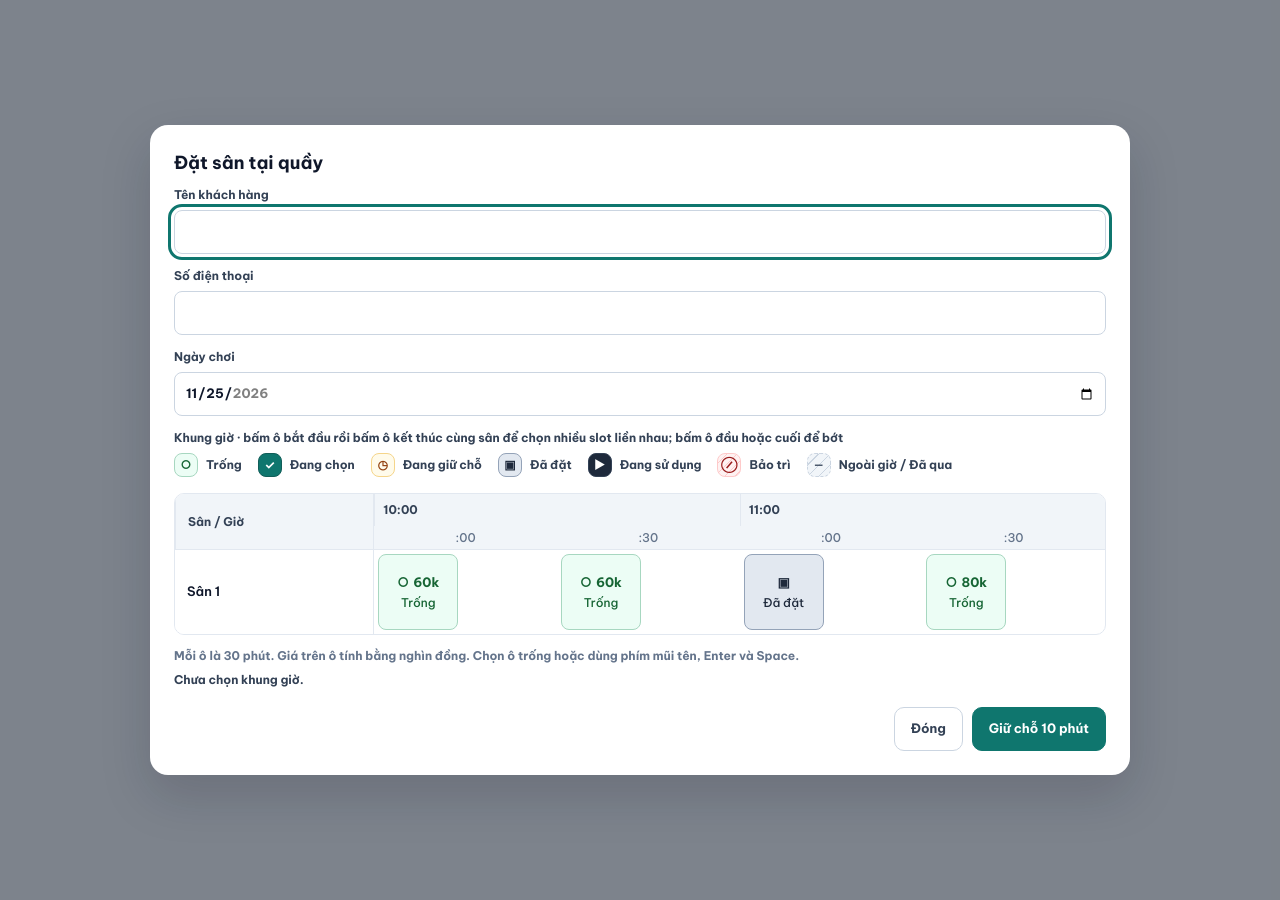
it: giữ chỗ › thiếu tên, số điện thoại và khung giờ thì báo từng chỗ, không gửi
Expected: the table named "Lịch sân theo khung 30 phút" is shown, top-left (175, 494), bottom-right (1105, 634)
Click the button "Giữ chỗ 10 phút": click(1039, 729) top-left (972, 707), bottom-right (1106, 751)
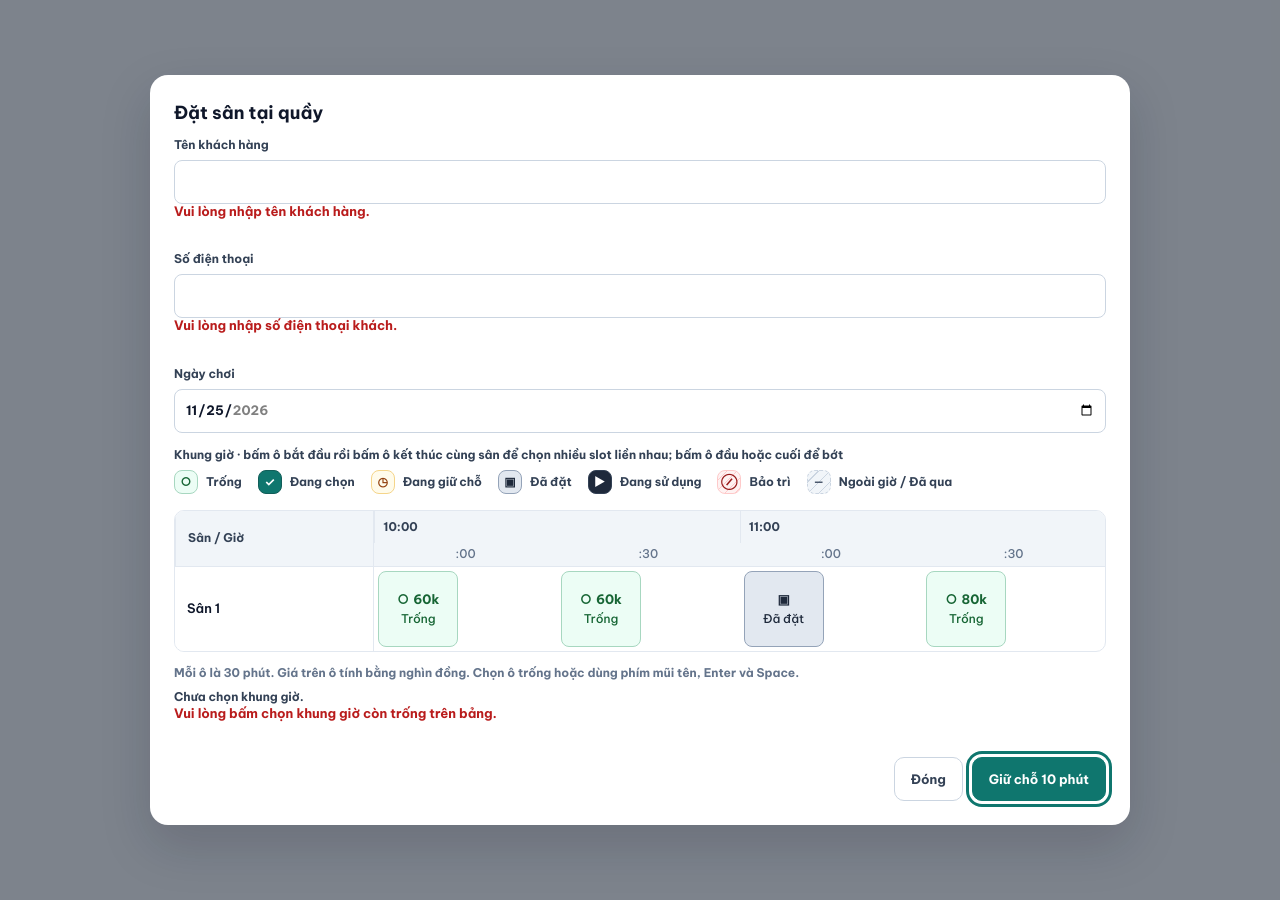
Expected: the text "Vui lòng nhập tên khách hàng." is shown, top-left (174, 203), bottom-right (370, 219)
Expected: the text "Vui lòng nhập số điện thoại khách." is shown, top-left (174, 317), bottom-right (397, 333)
Expected: the text "Vui lòng bấm chọn khung giờ còn trống trên bảng." is shown, top-left (174, 705), bottom-right (497, 721)
